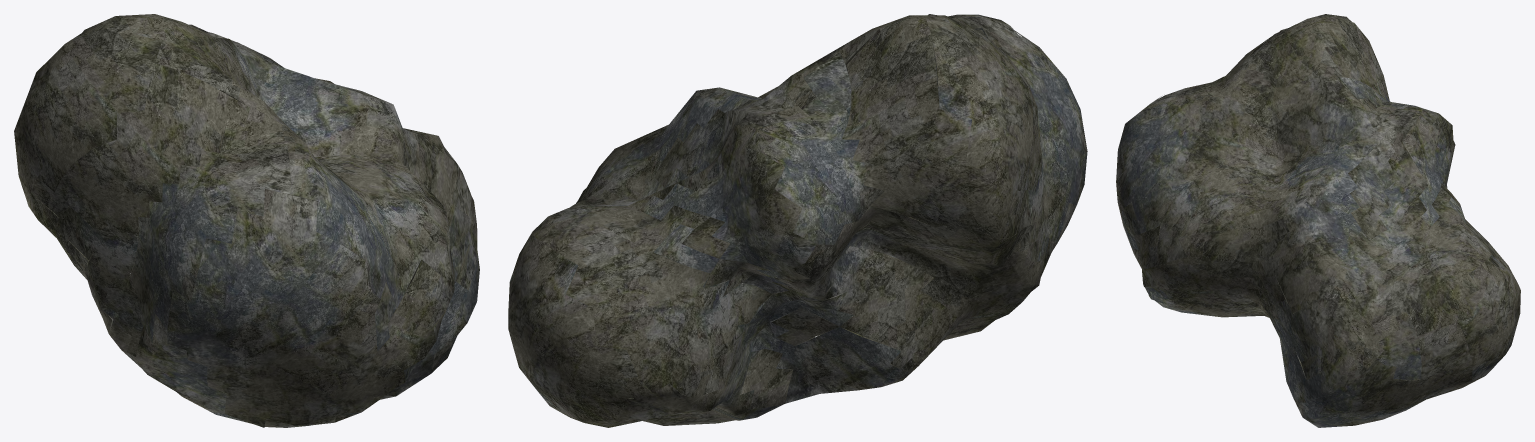
Rendered from boulder_c.glb.
3 views of the same model, side by side, from view 1: azimuth 30°, elevation 25°; view 2: azimuth 150°, elevation 25°; view 3: azimuth 270°, elevation 25° (orthographic). The views are drawn at different scales.
Visible parts, largest first — view 1: boulder_c; view 2: boulder_c; view 3: boulder_c.
Part boxes in pixels (x1=…): boulder_c: x1=14, y1=14, x2=479, y2=427; boulder_c: x1=508, y1=14, x2=1087, y2=427; boulder_c: x1=1116, y1=14, x2=1520, y2=427.
Bounding box in the file's own units: 3.32 × 3.12 × 3.57.
Materials: 1 (1 with a texture image).
